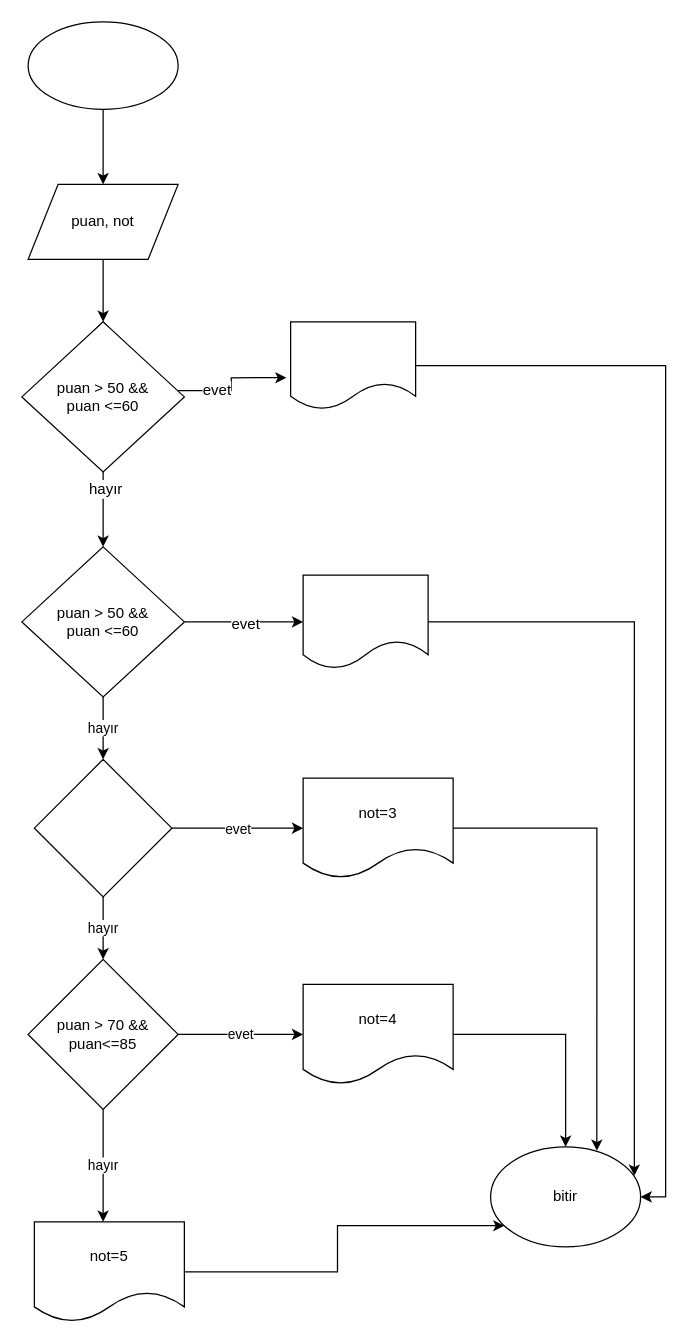
Some shapes in this 698 by 1344 pixel diagram are drawn without their labels. Here are the shapes that lost their labels. From the top down, the centre of each, then its label:
At point 102,65: "başla".
At point 352,365: "not=1".
At point 365,621: "not=2".
At point 102,827: "puan >60 && puan<=70".
